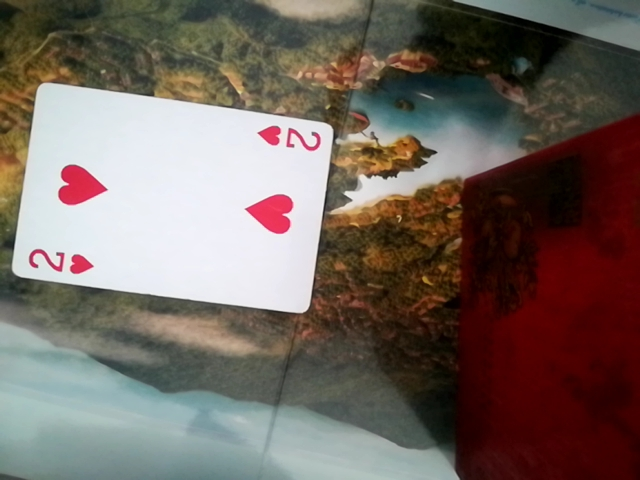hx 2: (9, 79, 337, 317)
